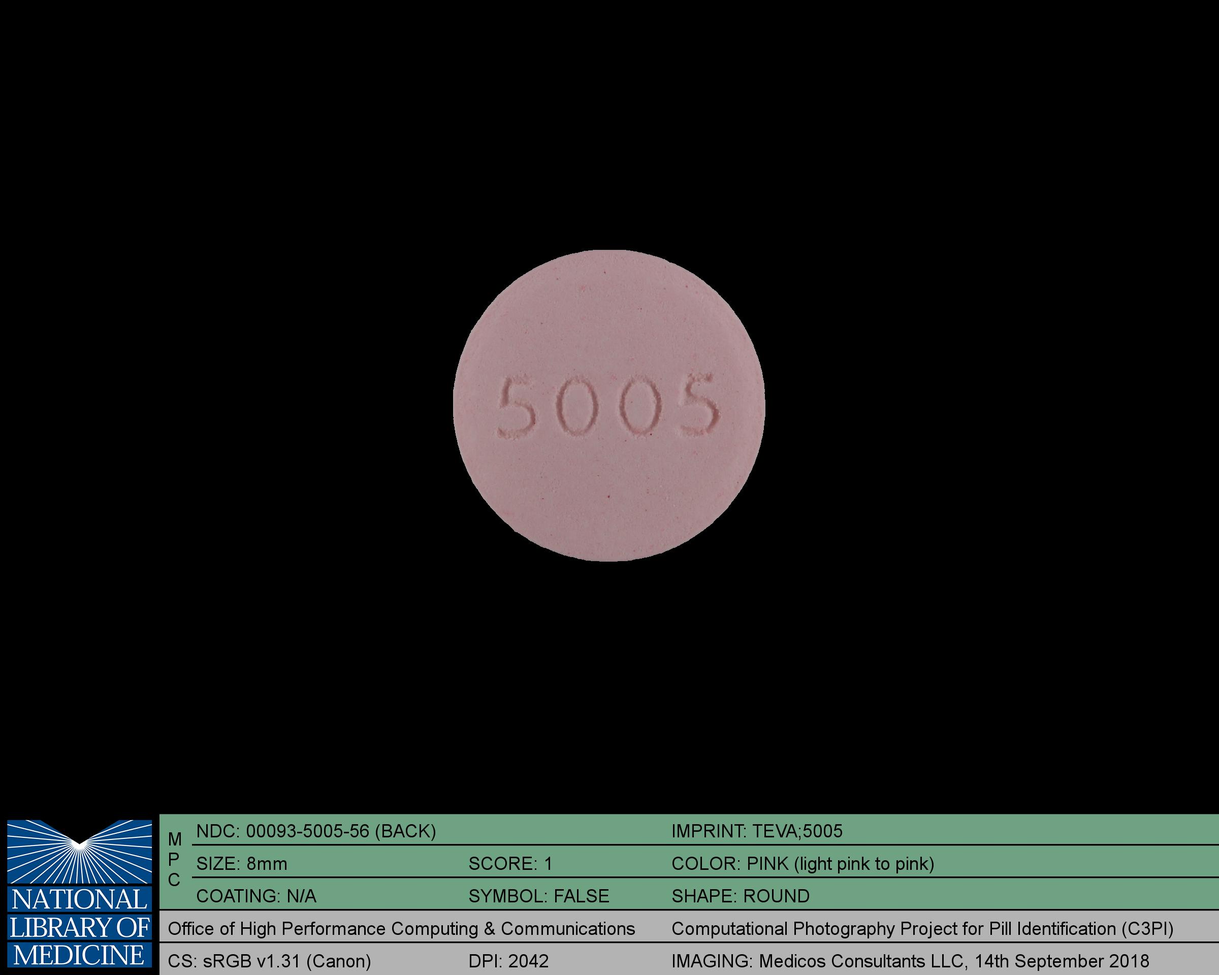Pill: (437, 237, 782, 574)
